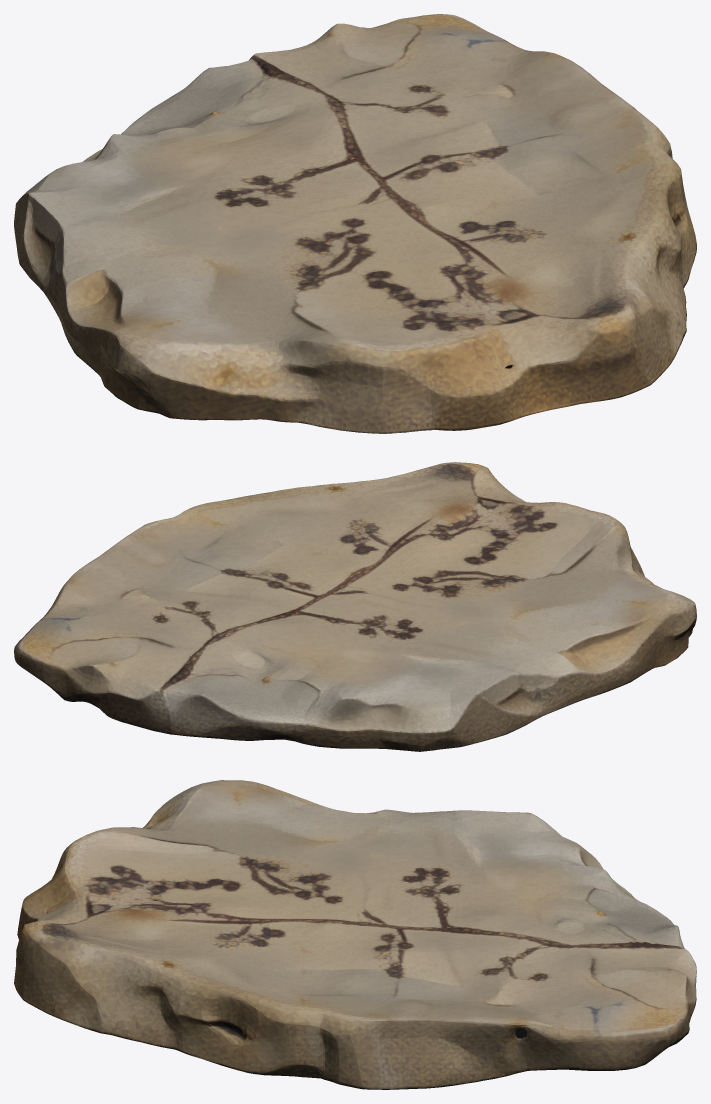
3 renders of one model, top to bottom at view 1: azimuth 30°, elevation 25°; view 2: azimuth 150°, elevation 25°; view 3: azimuth 270°, elevation 25°, orthographic. The views are drawn at different scales.
Visible parts, largest first — view 1: world; view 2: world; view 3: world.
Boxes of the visible parts, box(x1,y1,x2,y2) form: world: box(14, 14, 696, 433); world: box(14, 462, 696, 751); world: box(14, 780, 696, 1089).
Size of the model in its own units: 0.1866 by 0.0208 by 0.2.
Materials: 1 (1 with a texture image).
